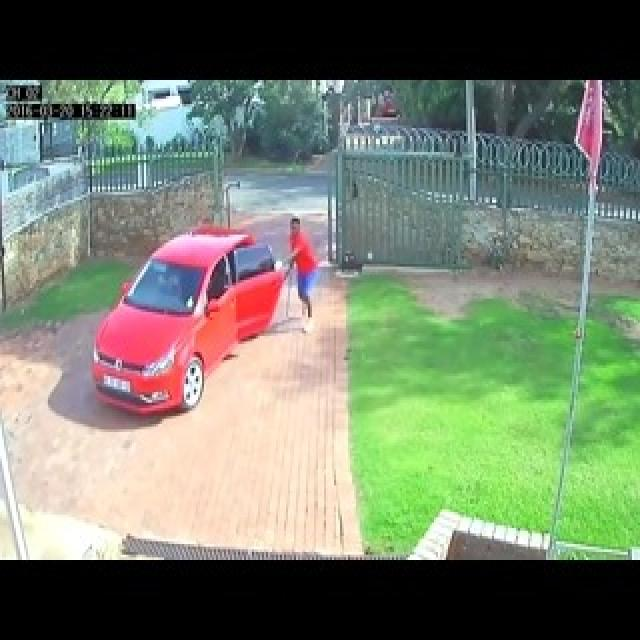thief: (284, 204, 325, 310)
